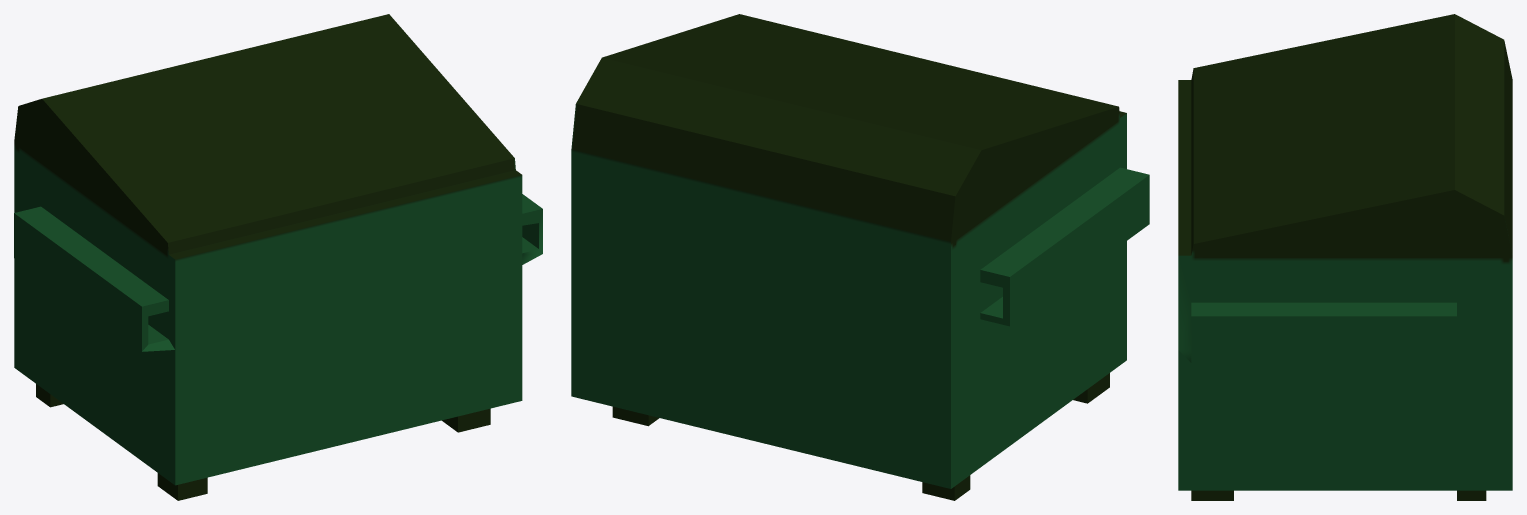
Rendered from garbage_bin.fbx.
3 renders of one model, left to right at view 1: azimuth 30°, elevation 25°; view 2: azimuth 150°, elevation 25°; view 3: azimuth 270°, elevation 25°, orthographic. The views are drawn at different scales.
Parts seen in each view (by area): view 1: pasted__garbage_bin; view 2: pasted__garbage_bin; view 3: pasted__garbage_bin.
Boxes of the visible parts, x1=… form: pasted__garbage_bin: x1=14, y1=14, x2=542, y2=500; pasted__garbage_bin: x1=571, y1=14, x2=1149, y2=500; pasted__garbage_bin: x1=1178, y1=14, x2=1512, y2=500.
Size of the model in its own units: 243 by 181 by 169.
